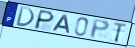0: (74, 17, 90, 37)
A: (51, 14, 71, 35)
D: (15, 5, 35, 28)
P: (32, 9, 55, 31), (89, 18, 111, 40)
T: (113, 21, 128, 43)
